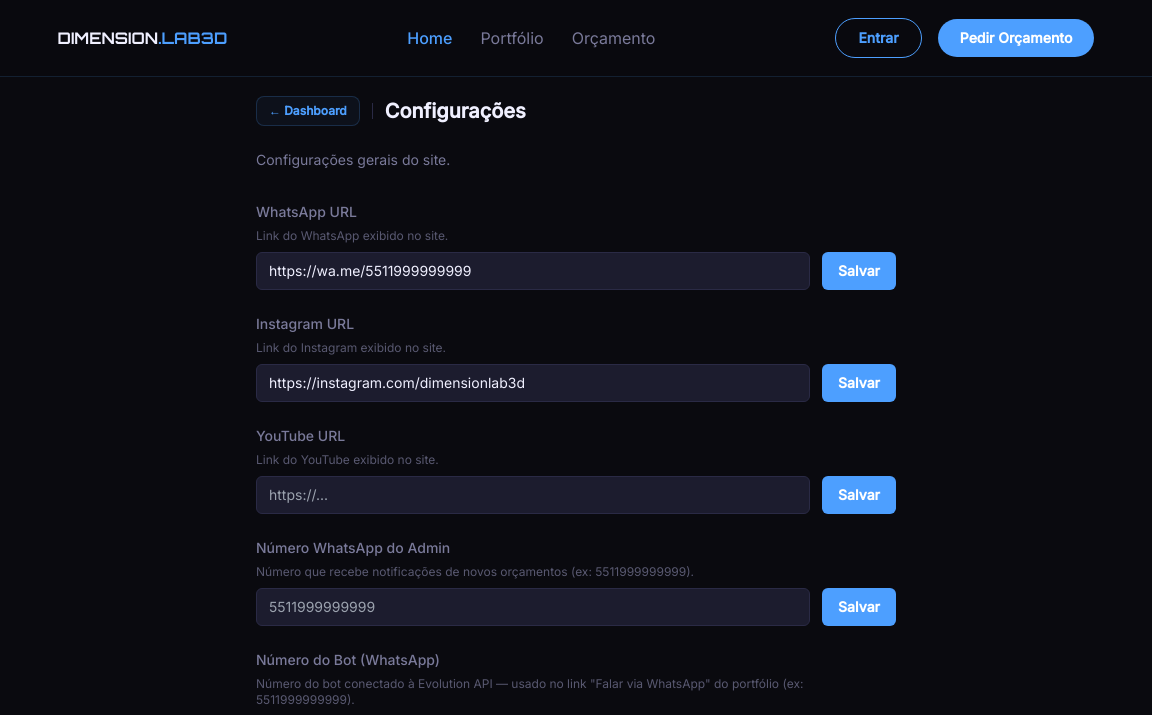
Test: SettingsAdmin › shows success feedback after save
Expected: the field showing "https://instagram.com/dimensionlab3d" below "Link do Instagram exibido no site." is shown, [256, 364, 810, 402]
Click the 2nd button "Salvar": (859, 383) [822, 364, 896, 402]
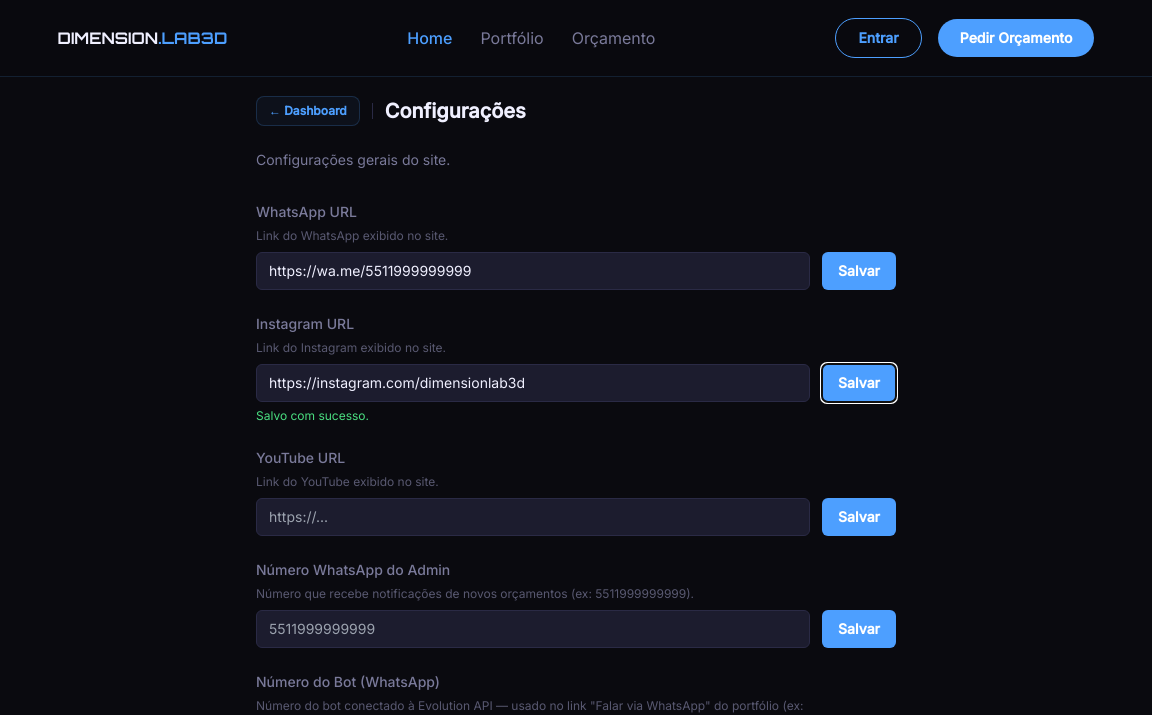
Expected: the text "Salvo com sucesso." is shown, [256, 408, 369, 423]
